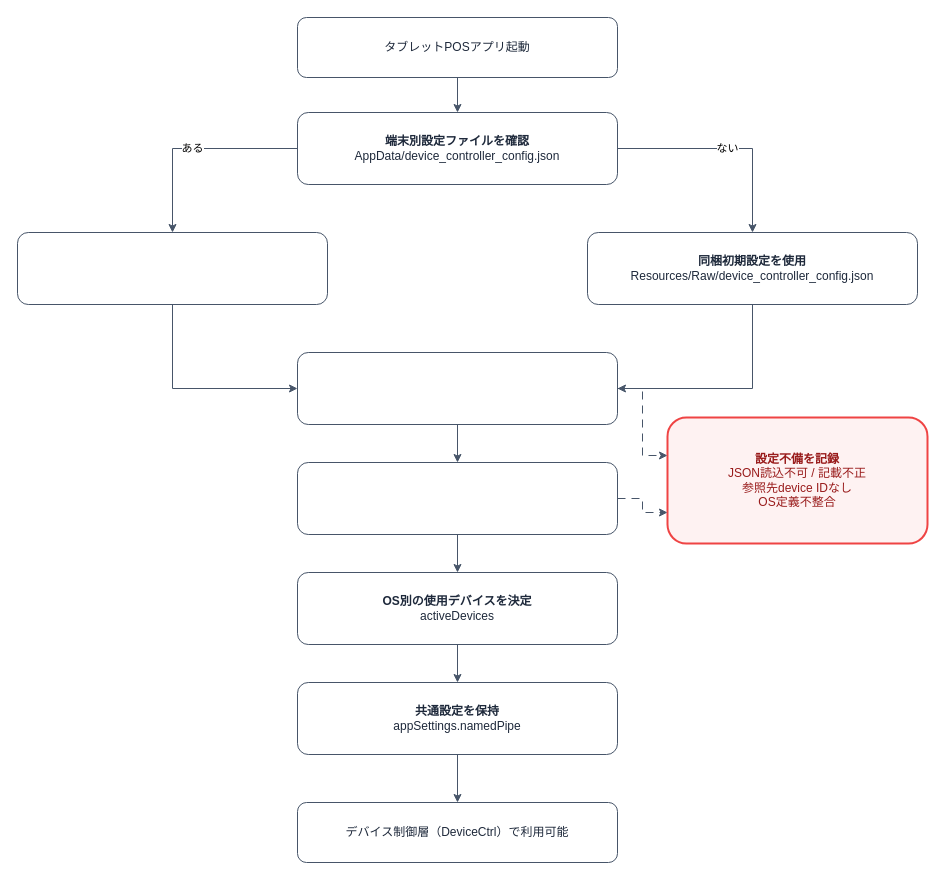
Some shapes in this 946 by 880 pixel diagram are drawn without their labels. The box of each missing label's shape, as (x1, y1, x2, y2) in pixels:
端末別設定を使用 AppData配下の設定: (16, 232, 328, 304)
設定ファイルを読み込む device_controller_config.json: (296, 352, 618, 424)
設定内容を確認 devices / activeDevices / appSettings: (296, 462, 618, 534)
